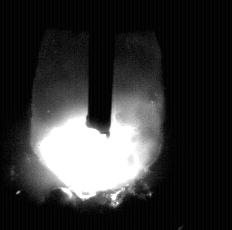arame: (89, 0, 113, 138)
poca: (29, 0, 164, 230)
